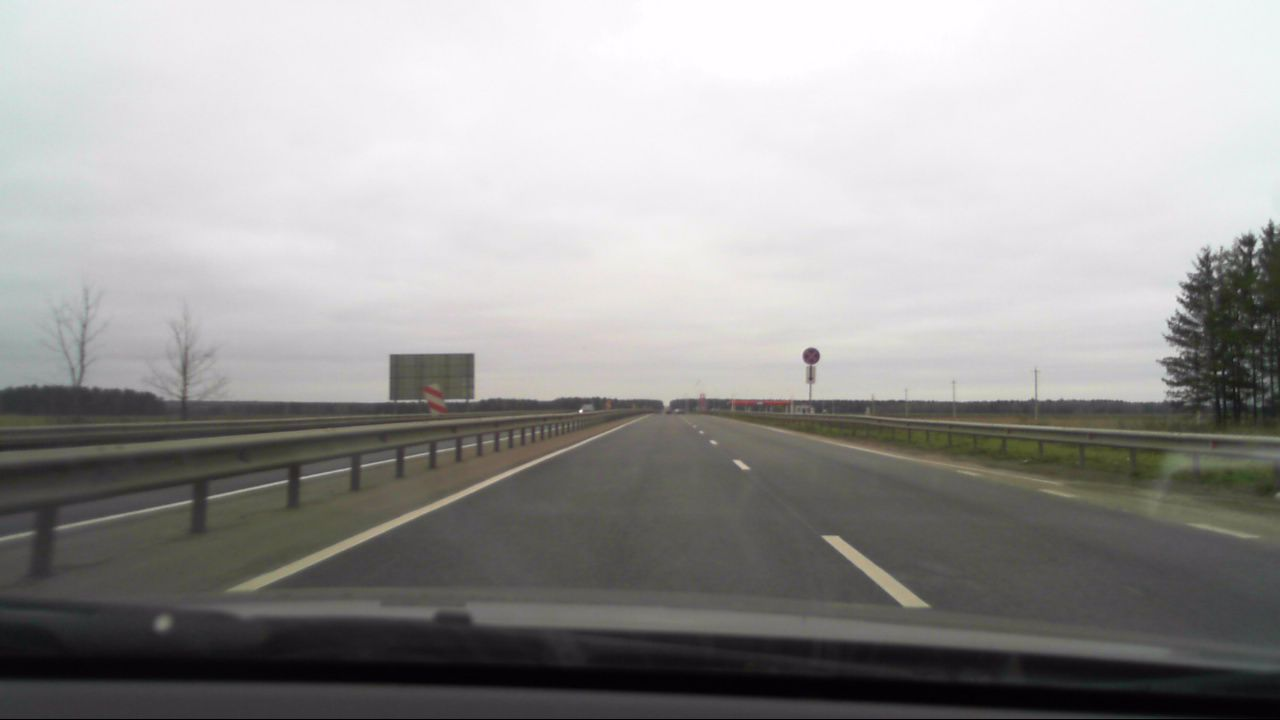No Parking: (800, 345, 821, 365)
